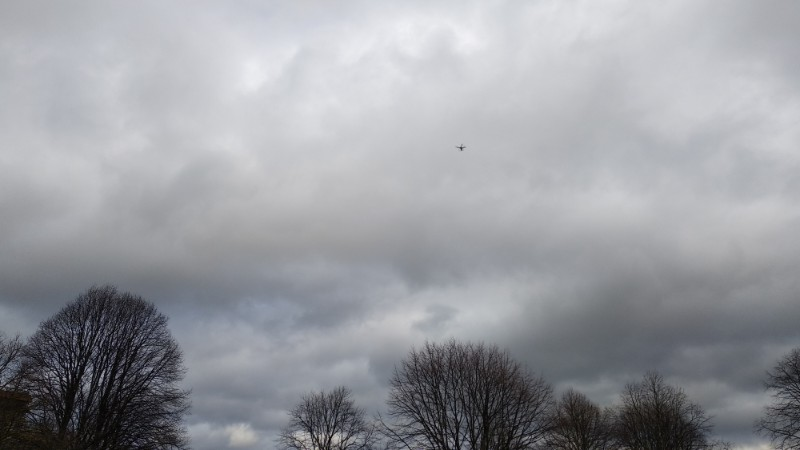drone: (457, 144, 467, 153)
